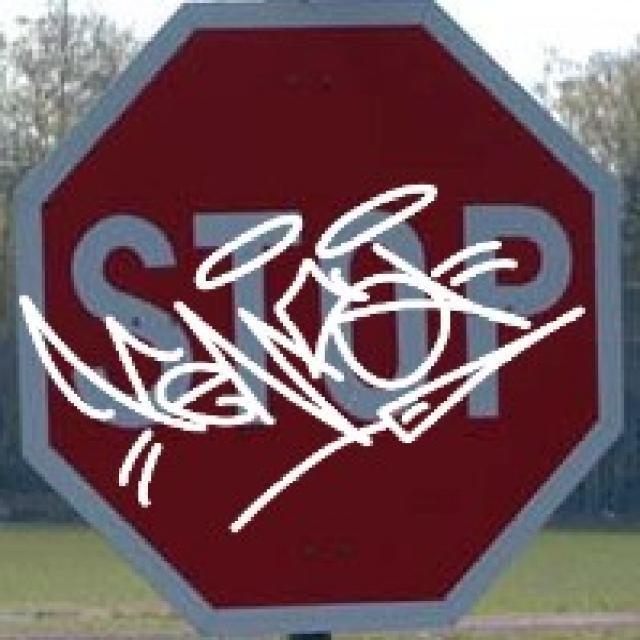Stop-Sign: (33, 28, 584, 610)
